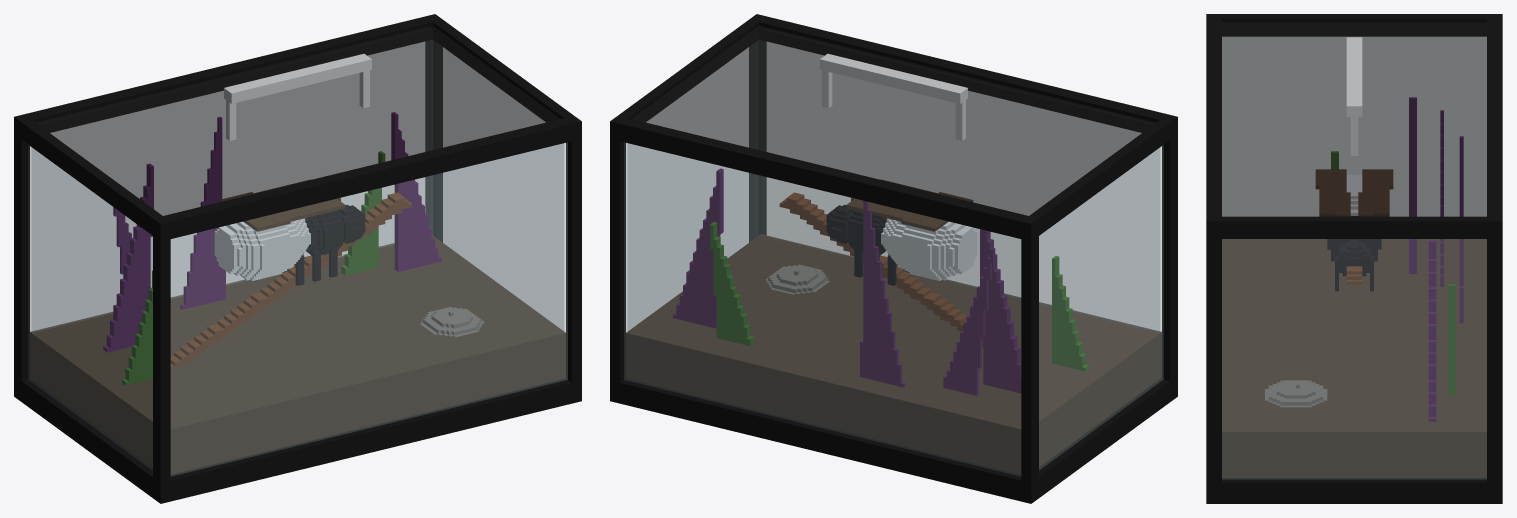
The model's file is firefly_terrarium.glb.
3 views of the same model, side by side, from view 1: azimuth 30°, elevation 25°; view 2: azimuth 150°, elevation 25°; view 3: azimuth 270°, elevation 25° (orthographic).
Visible parts, largest first — view 1: firefly_terrarium:compound; view 2: firefly_terrarium:compound; view 3: firefly_terrarium:compound.
Part boxes in pixels (x1,y1,x2,y2): firefly_terrarium:compound: [14, 14, 581, 503]; firefly_terrarium:compound: [610, 14, 1177, 503]; firefly_terrarium:compound: [1206, 14, 1502, 503].
Bounding box in the file's own units: 0.504 × 0.372 × 0.304.
